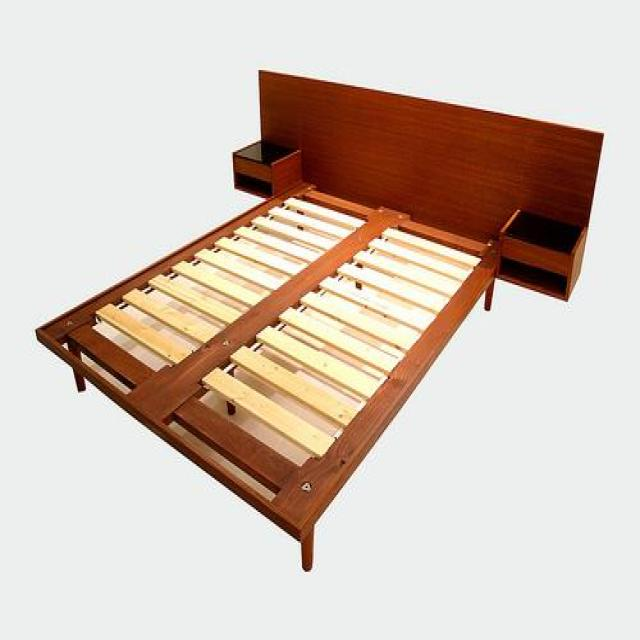bed: (34, 65, 604, 572)
